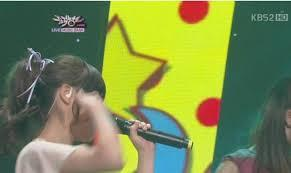earphone: (64, 92, 72, 100)
